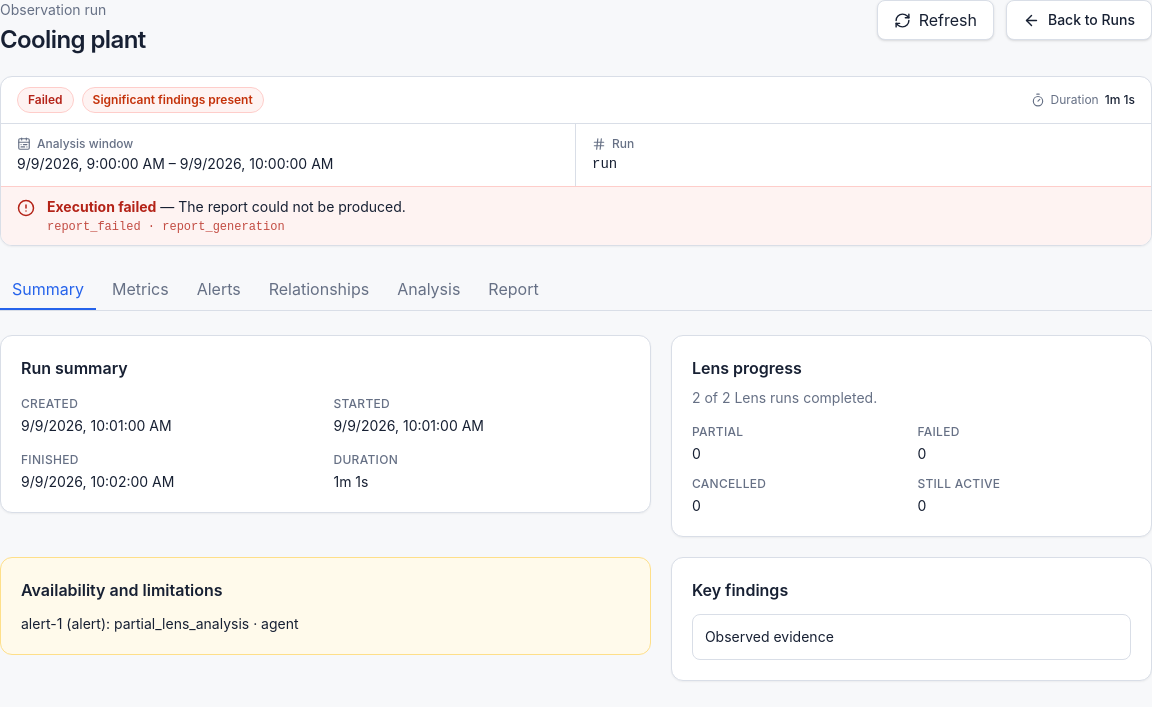
Test: RunDetailPage › keeps run-header execution and analytical truth visible outside Summary
Check: the heading "Run summary" is shown, box x1=21 y1=358 x2=128 y2=378
Click the tab "Metrics" at [140, 290], box x1=100 y1=270 x2=181 y2=310
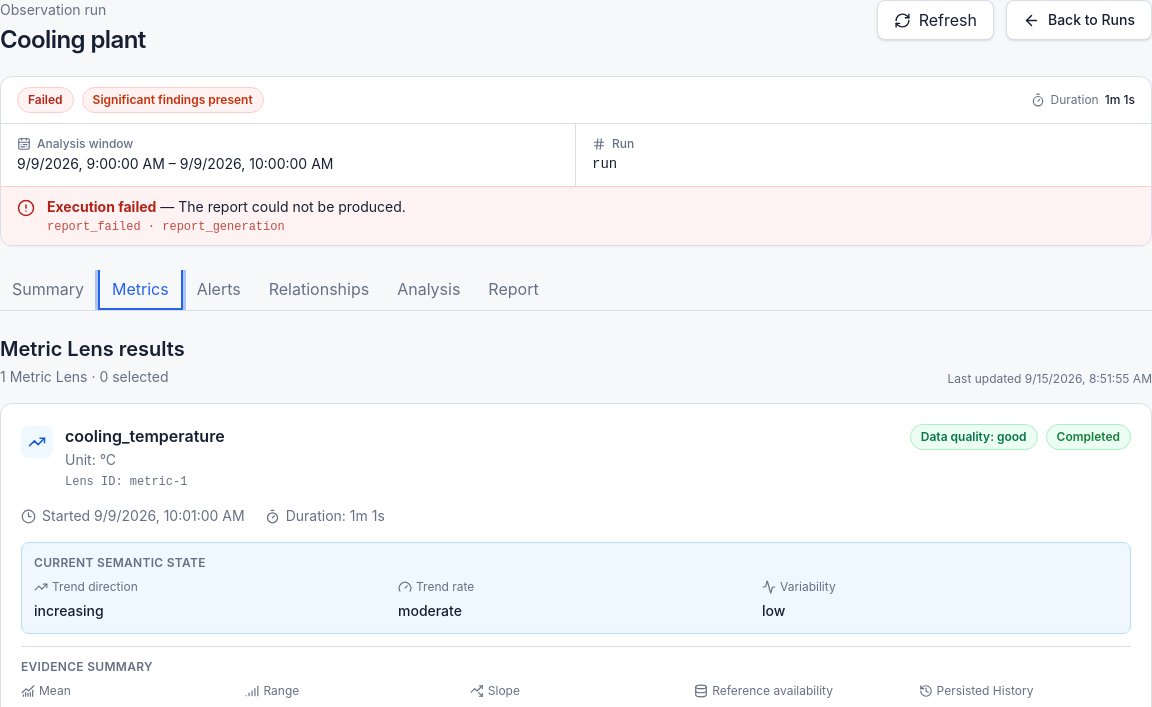
Check: the header "Cooling plant" is shown, box x1=0 y1=0 x2=1151 y2=246
Check: the text "Finished" is gone
